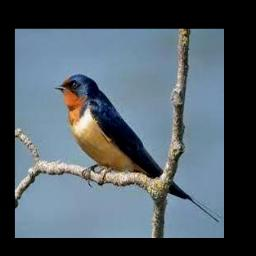Swallow: (55, 74, 222, 222)
